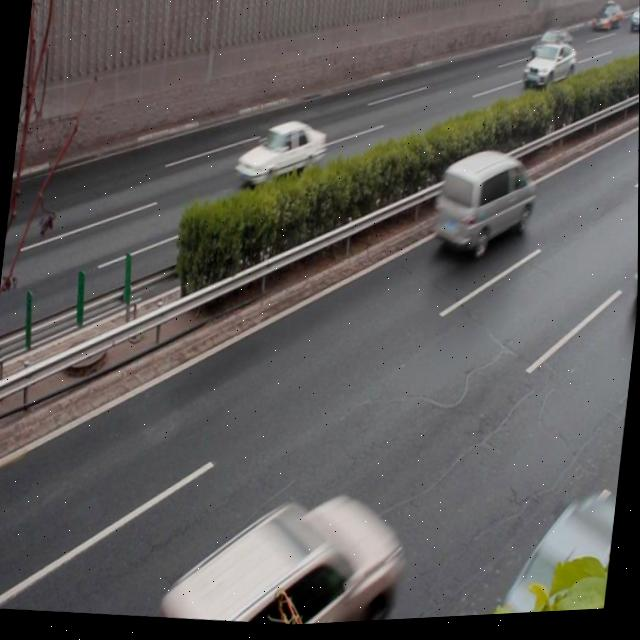car: (160, 475, 406, 633), (234, 116, 328, 197), (517, 45, 577, 95), (528, 30, 573, 71), (630, 230, 639, 303)
truck: (433, 147, 541, 261)
